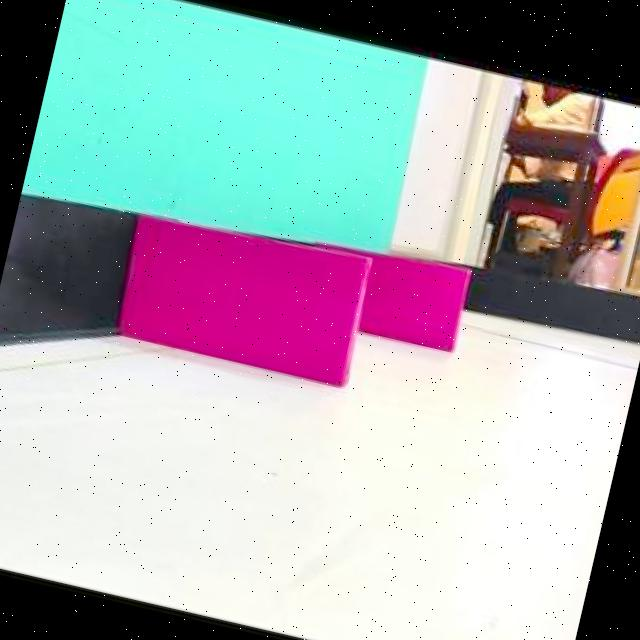xparking: (114, 206, 367, 386), (367, 244, 468, 347)
